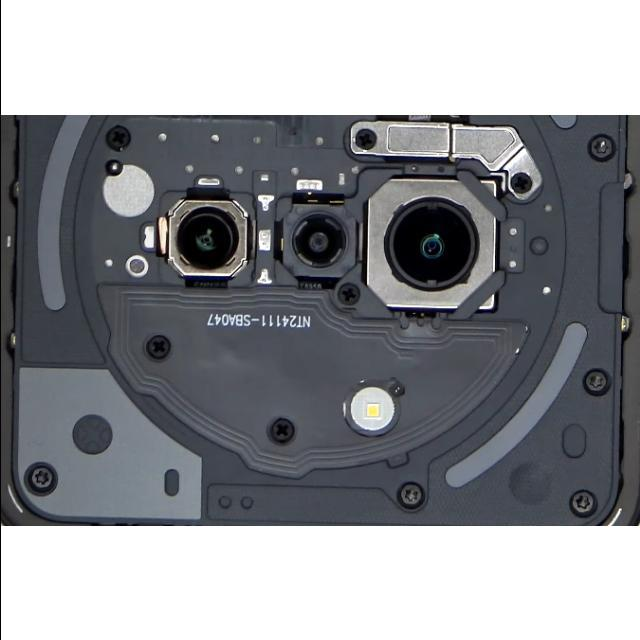Torx: (588, 134, 616, 161), (34, 470, 50, 485), (589, 374, 605, 389), (403, 488, 418, 503), (576, 495, 590, 509)
